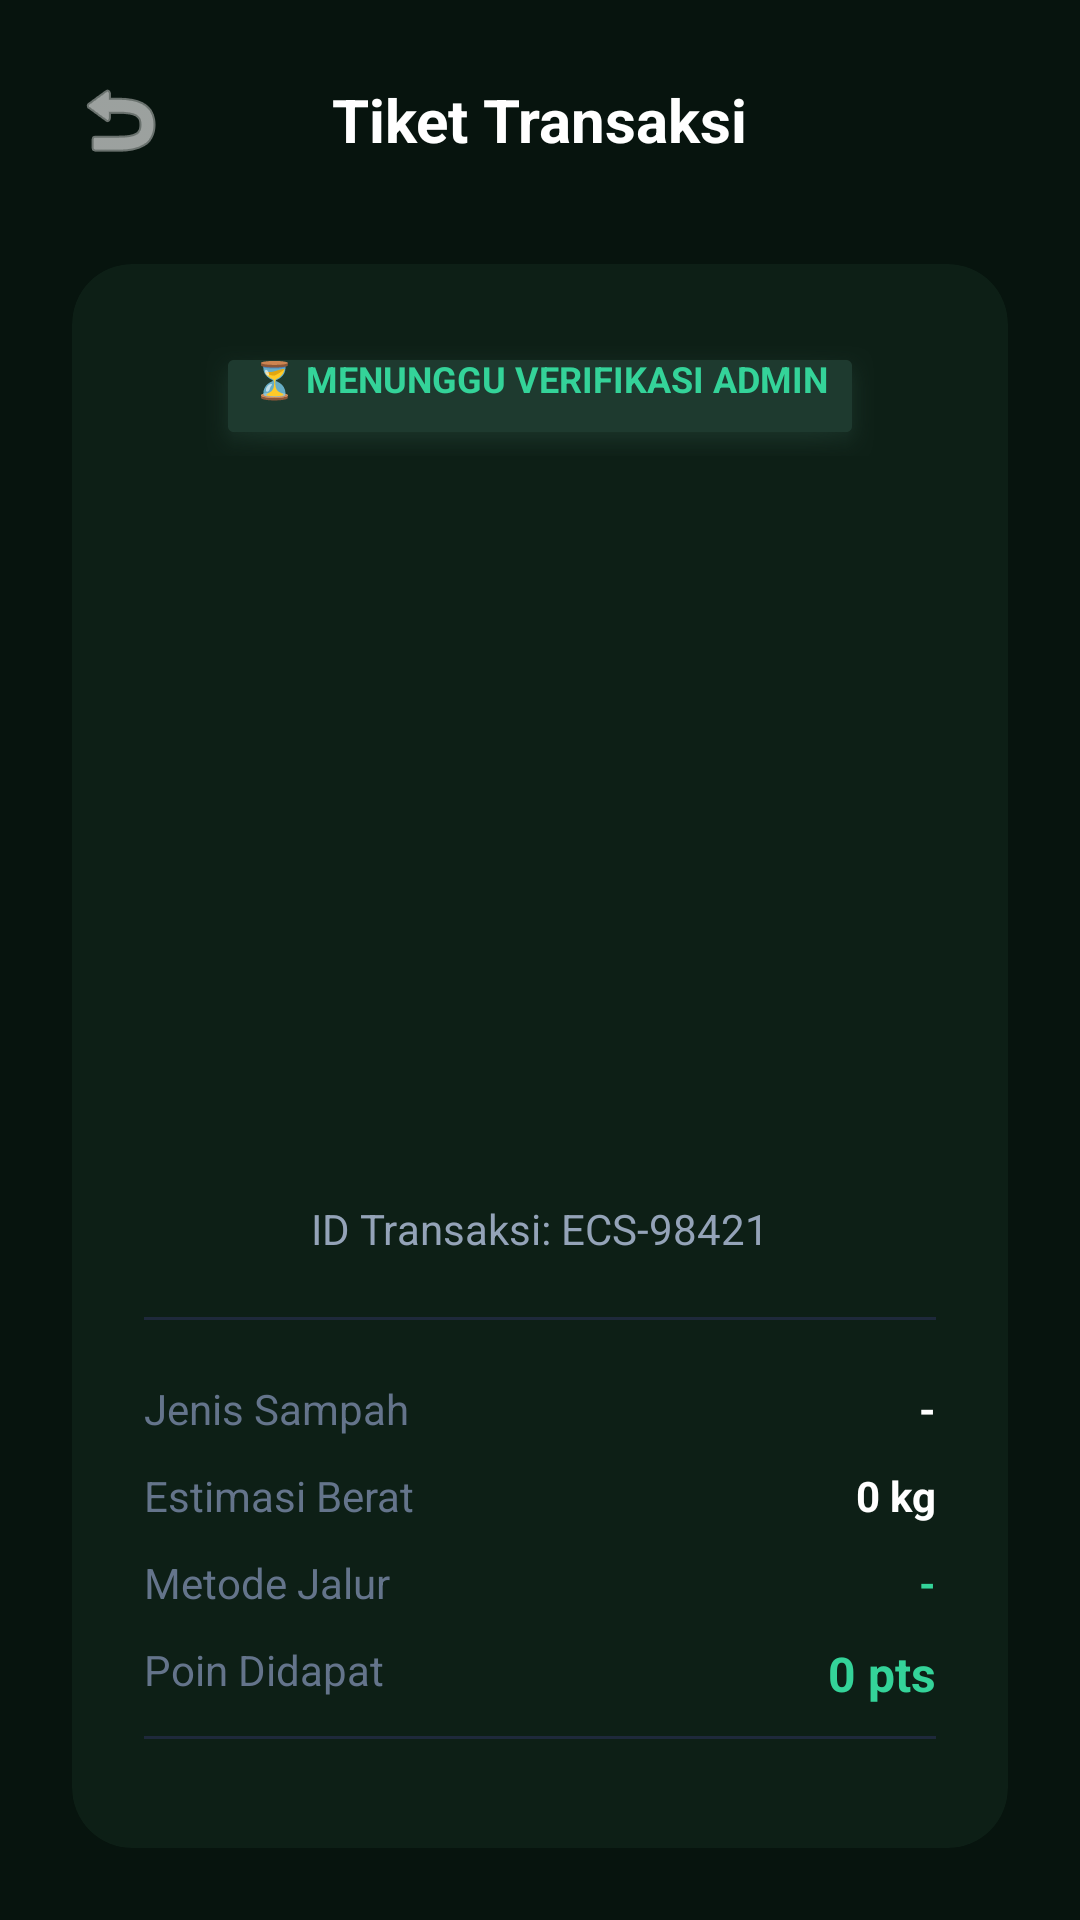

Where icons sit on this 1080w x 1920h app screen, as (x1, y1, x2, y2):
revert: (87, 89, 156, 152)
